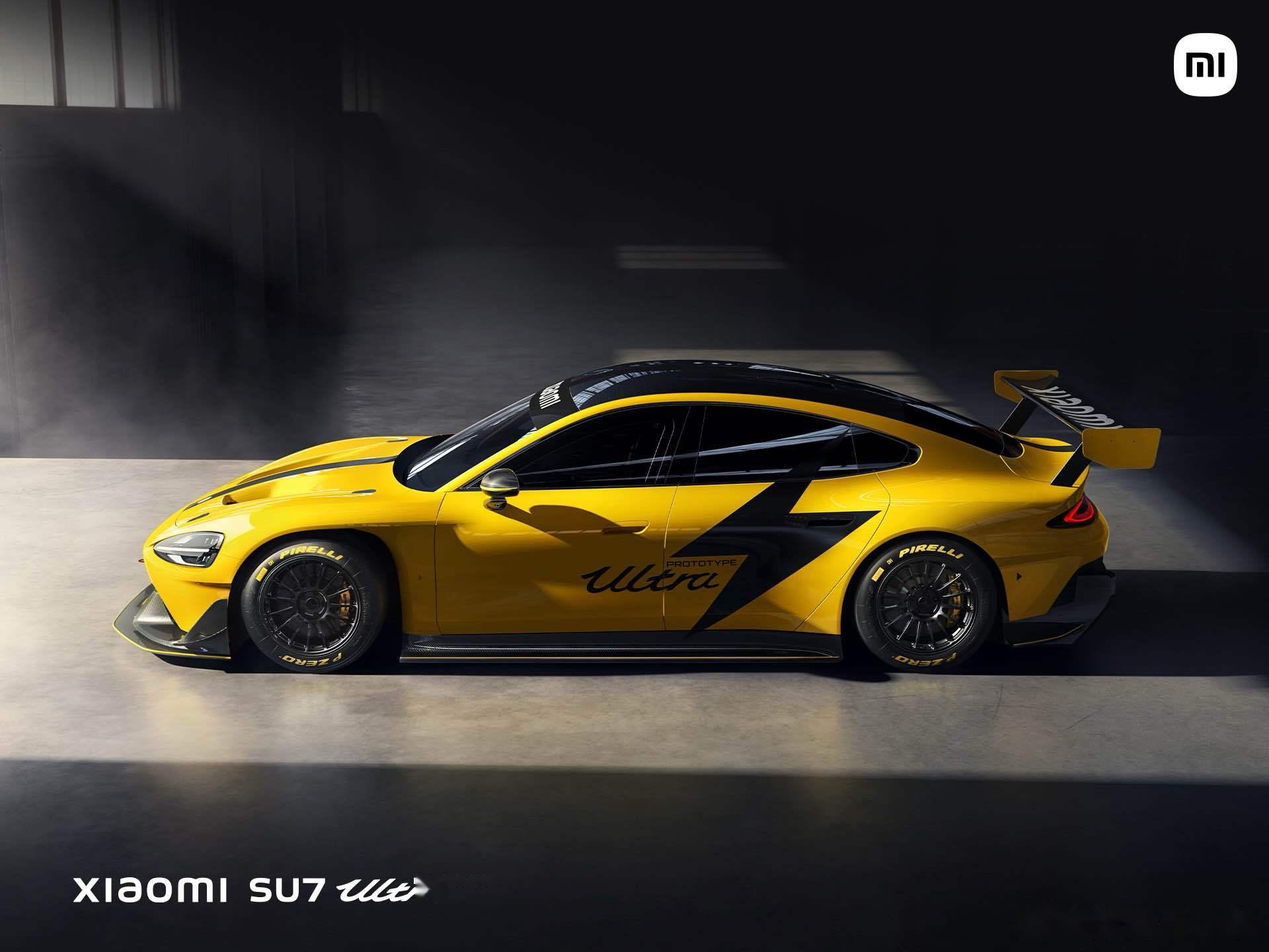su7: (103, 353, 1166, 674)
